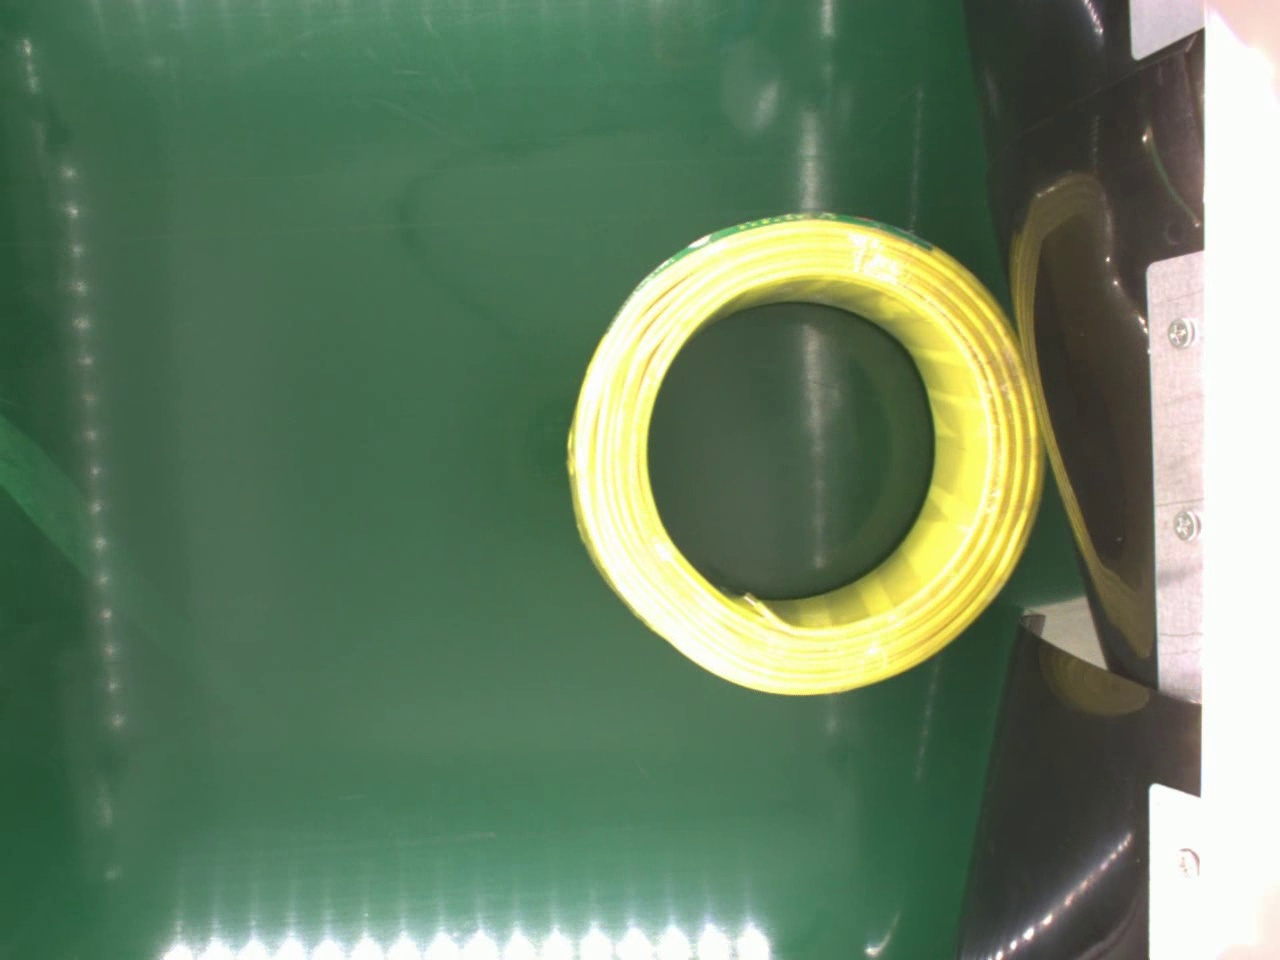yellow: (563, 209, 1048, 695)
